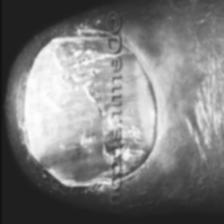Toxin: (27, 50, 106, 188)
